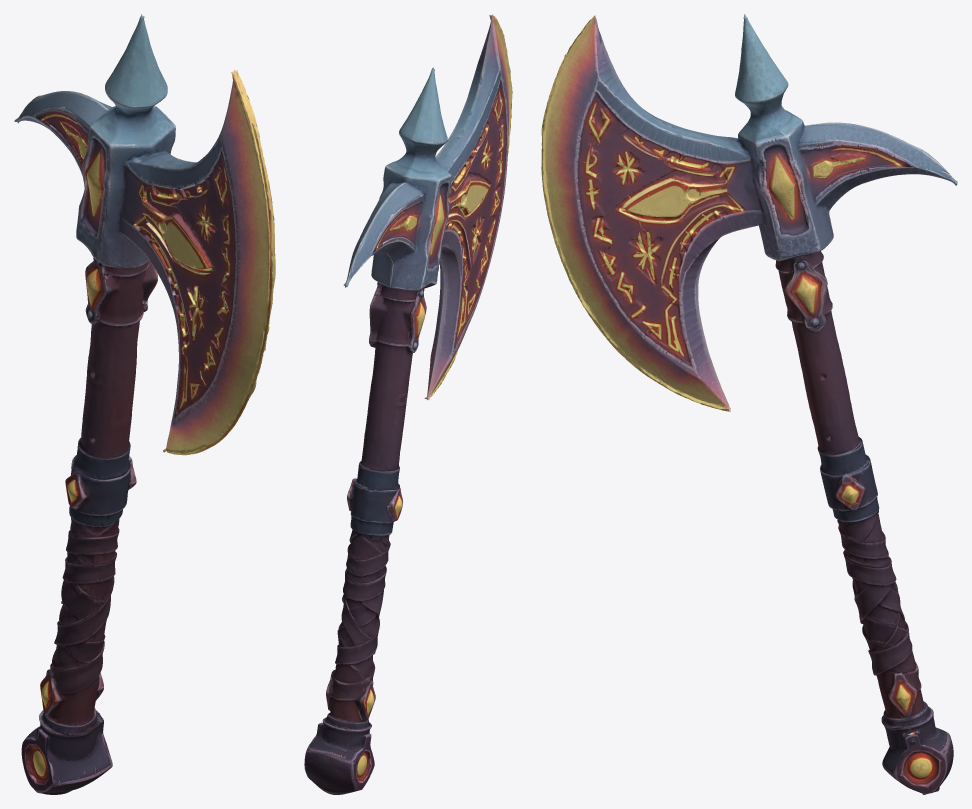
File: 2h_Axe_02.glb
The picture shows the model from 3 angles, left to right: view 1: azimuth 30°, elevation 25°; view 2: azimuth 150°, elevation 25°; view 3: azimuth 270°, elevation 25°; orthographic projection. The views are drawn at different scales.
Visible parts, largest first — view 1: tripo_node_602c79e3-9869-41c9-a21b-d8401dad6d0a; view 2: tripo_node_602c79e3-9869-41c9-a21b-d8401dad6d0a; view 3: tripo_node_602c79e3-9869-41c9-a21b-d8401dad6d0a.
Boxes of the visible parts, left/top/right/bottom form: tripo_node_602c79e3-9869-41c9-a21b-d8401dad6d0a: left=14, top=14, right=275, bottom=794; tripo_node_602c79e3-9869-41c9-a21b-d8401dad6d0a: left=304, top=14, right=512, bottom=794; tripo_node_602c79e3-9869-41c9-a21b-d8401dad6d0a: left=541, top=14, right=957, bottom=794.
Bounding box in the file's own units: 0.1037 × 0.9988 × 0.4886.
Materials: 1 (1 with a texture image).
